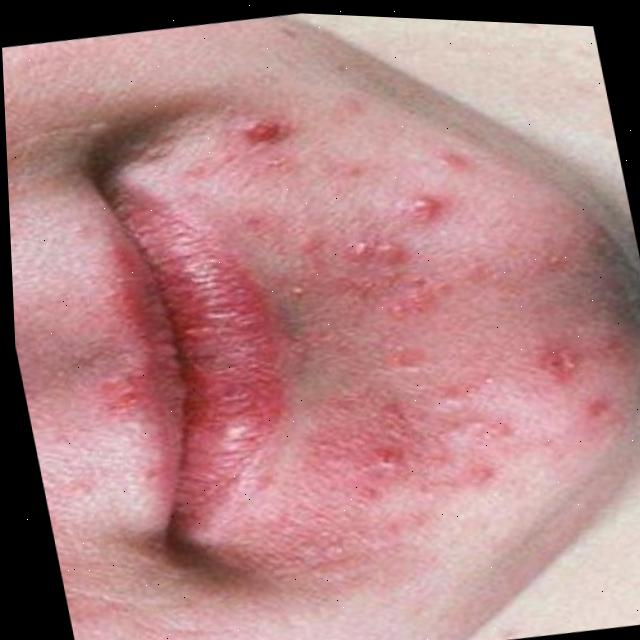Rosacea: (193, 59, 640, 597)
